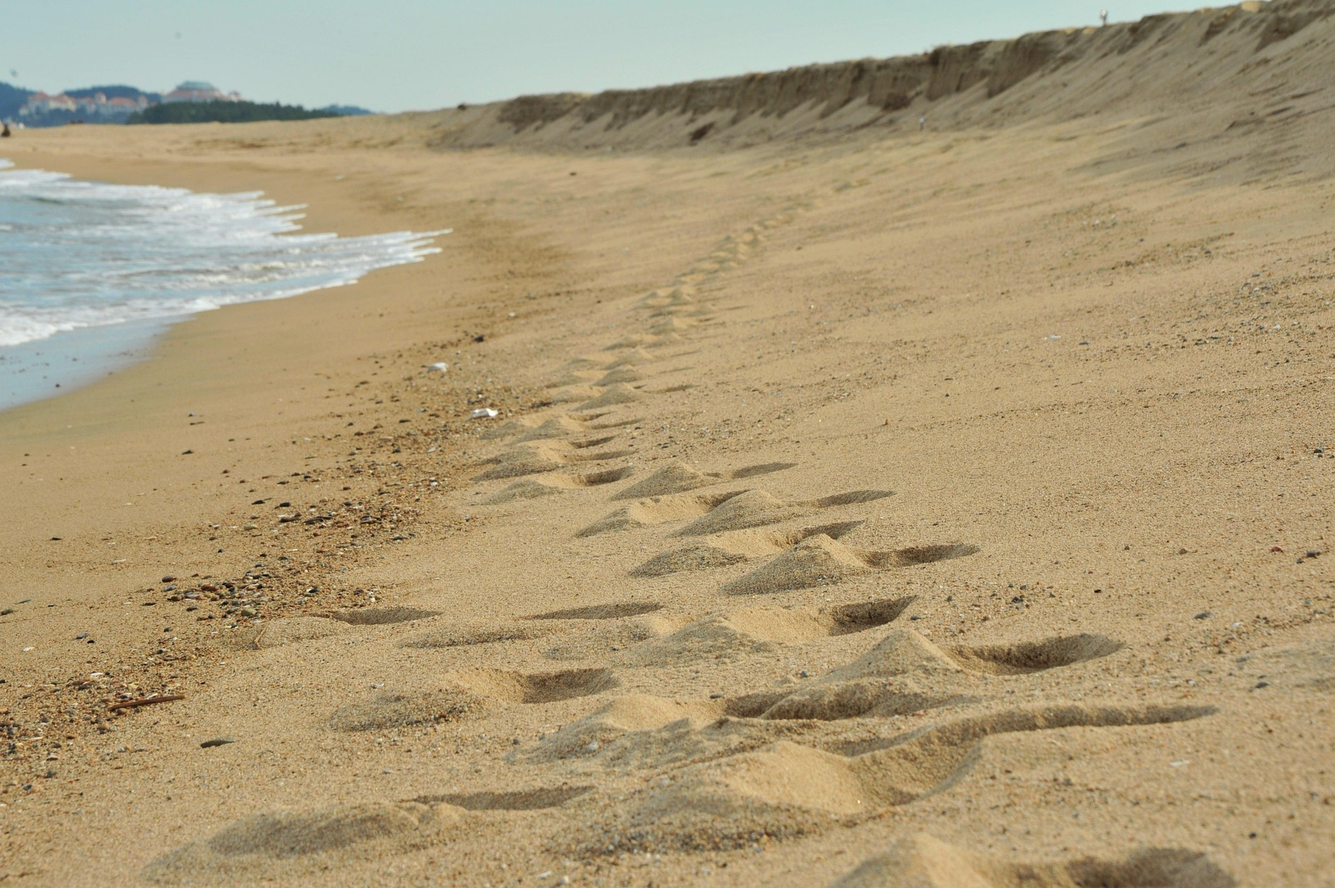human_footprint: (572, 702, 1215, 853), (829, 832, 1237, 887), (225, 779, 445, 849), (723, 534, 979, 594), (578, 489, 891, 536), (461, 750, 588, 820), (612, 460, 795, 500), (433, 667, 630, 700), (547, 584, 664, 620), (415, 621, 527, 658), (352, 605, 436, 626), (577, 422, 620, 460)
